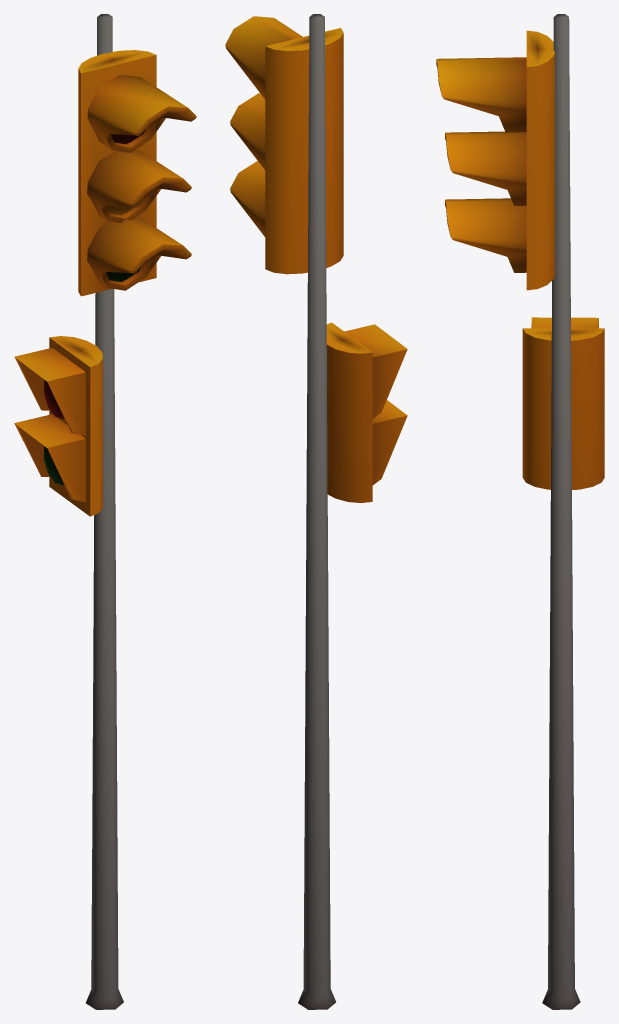
File: MediumTrafficLight_OpositeSide.fbx
3 renders of one model, left to right at view 1: azimuth 30°, elevation 25°; view 2: azimuth 210°, elevation 25°; view 3: azimuth 270°, elevation 25°, orthographic.
Parts seen in each view (by area): view 1: MediumTrafficLight_OpositeSide; view 2: MediumTrafficLight_OpositeSide; view 3: MediumTrafficLight_OpositeSide.
Boxes of the visible parts, x1,y1,x2,y2 form: MediumTrafficLight_OpositeSide: (14,14,196,1009); MediumTrafficLight_OpositeSide: (225,14,407,1009); MediumTrafficLight_OpositeSide: (436,14,604,1009).
Size of the model in its own units: 52.37 by 461 by 71.51.
